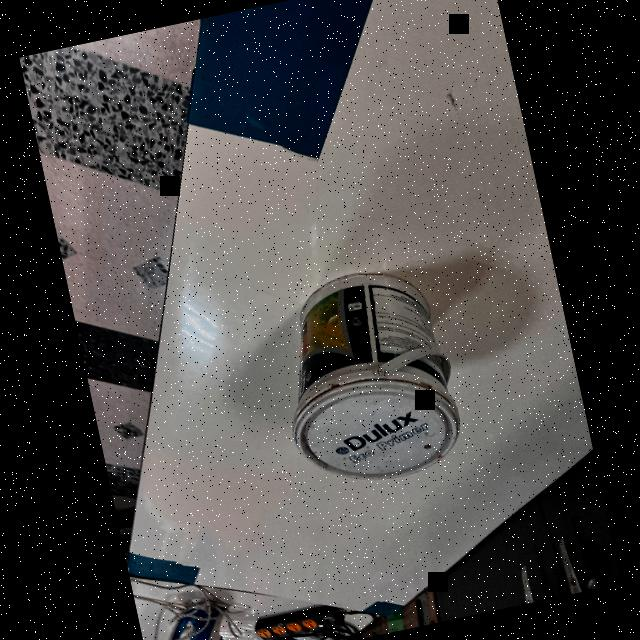paint_bucket: (260, 252, 473, 499)
